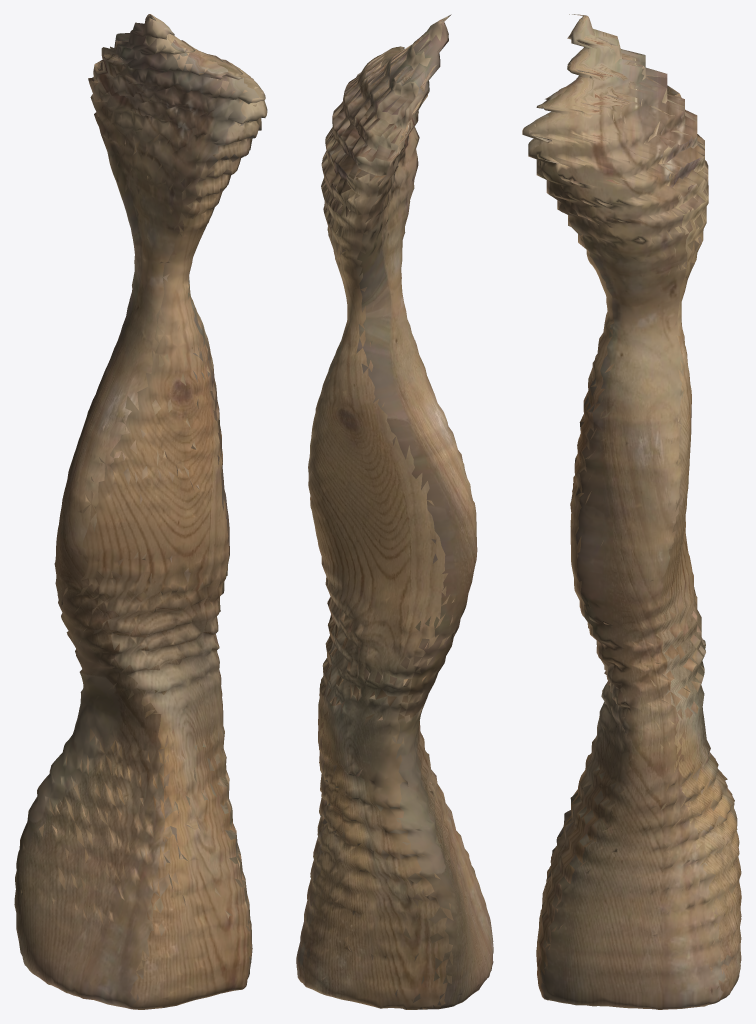
File: escultura-esc-013.glb
3 views of the same model, side by side, from view 1: azimuth 30°, elevation 25°; view 2: azimuth 150°, elevation 25°; view 3: azimuth 270°, elevation 25° (orthographic). The views are drawn at different scales.
Parts seen in each view (by area): view 1: world; view 2: world; view 3: world.
Boxes of the visible parts, <box> form: world: <box>14,14,267,1009</box>; world: <box>296,14,493,1009</box>; world: <box>522,14,741,1009</box>.
Bounding box in the file's own units: 0.0861 × 0.46 × 0.0958.
Materials: 1 (1 with a texture image).
